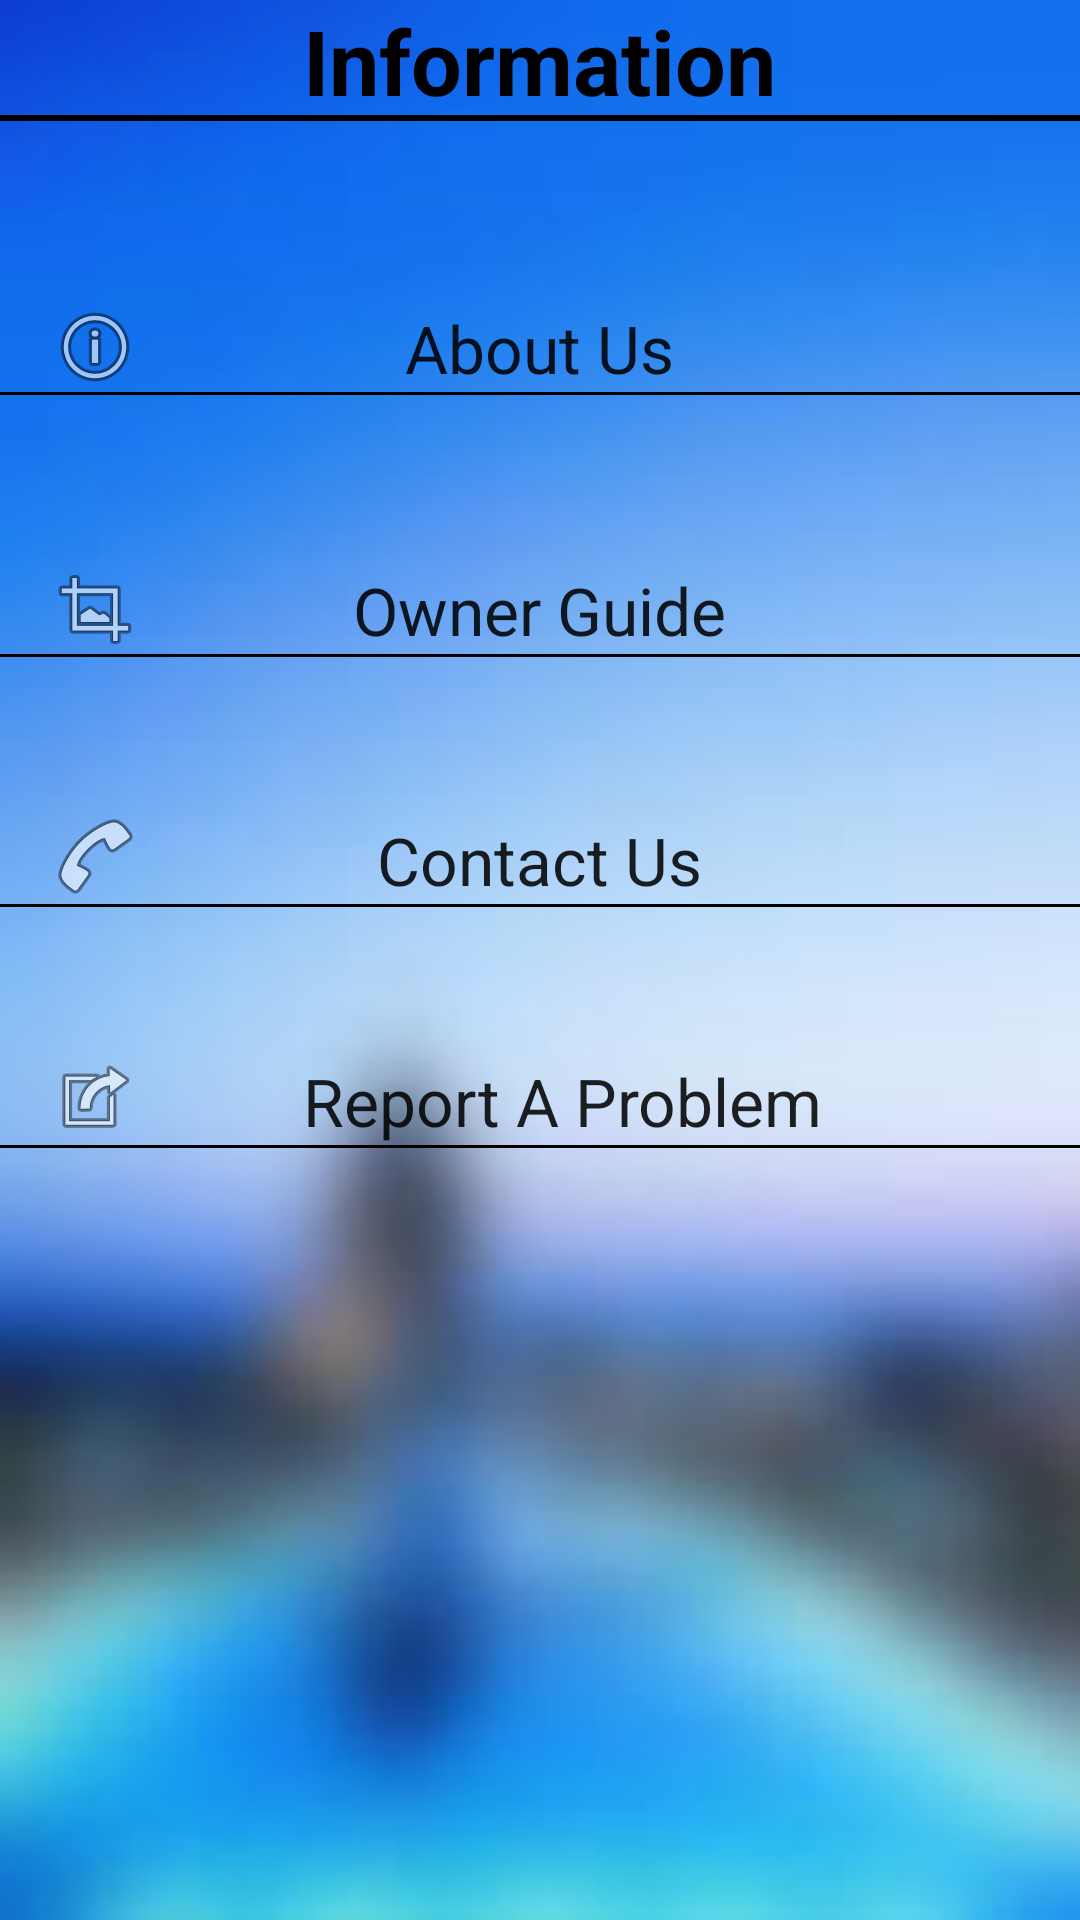

Point at icon controls on the screen. Image size 1080x1920, points as [x,y].
call: [95,856]
crop: [95,609]
info details: [95,347]
set as: [96,1096]
